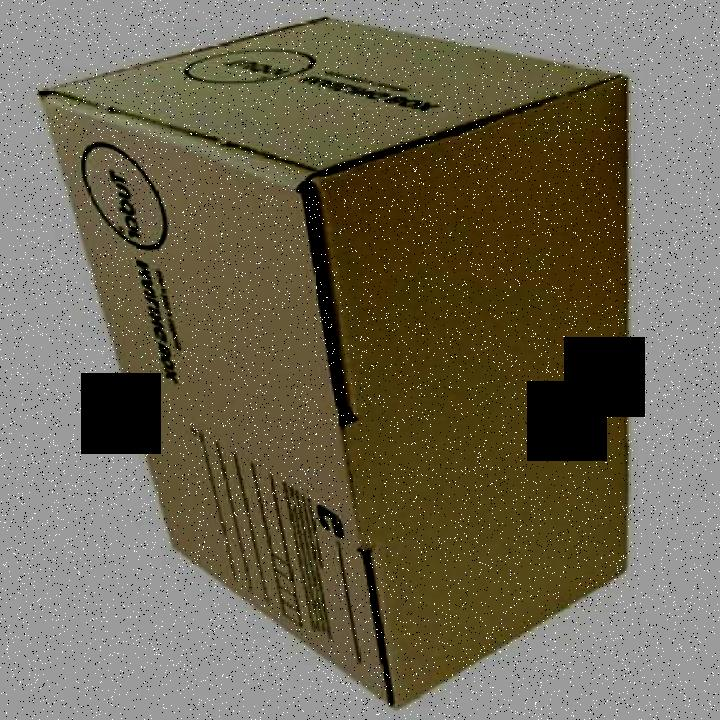box: (38, 18, 639, 708)
